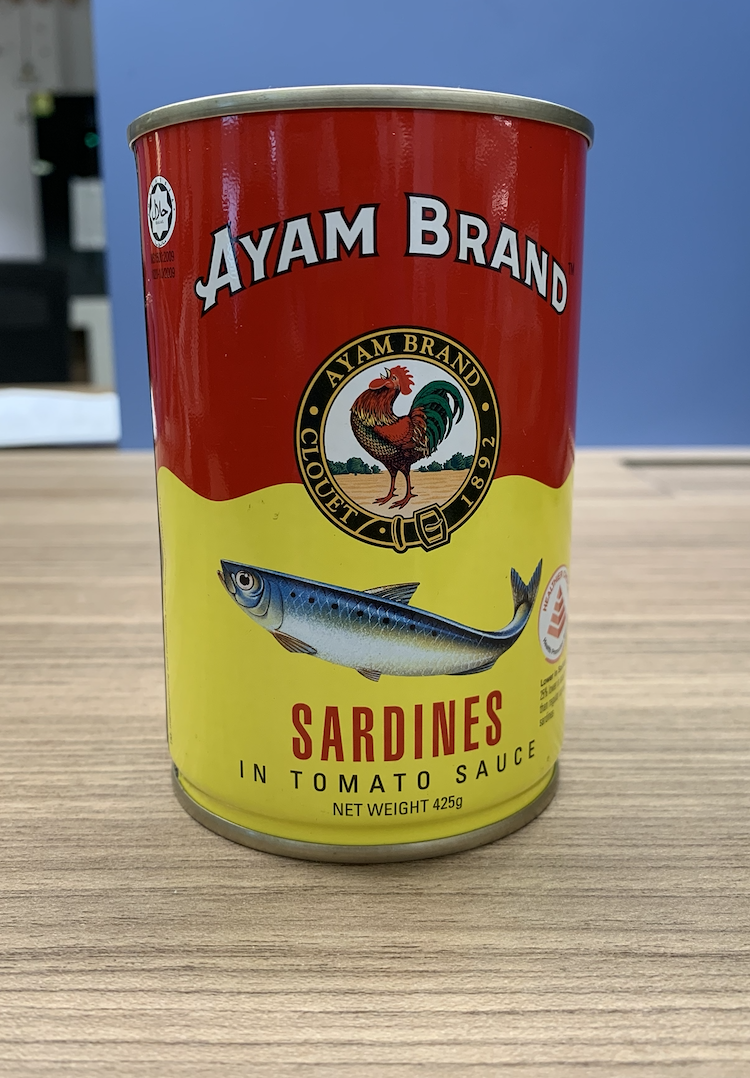sardines_450g: (150, 130, 567, 823)
